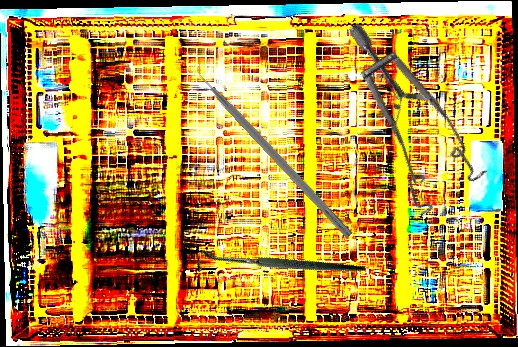Chopper: (188, 54, 362, 239)
Hook Surgical: (191, 189, 366, 346)
Speculum: (285, 20, 518, 234)
